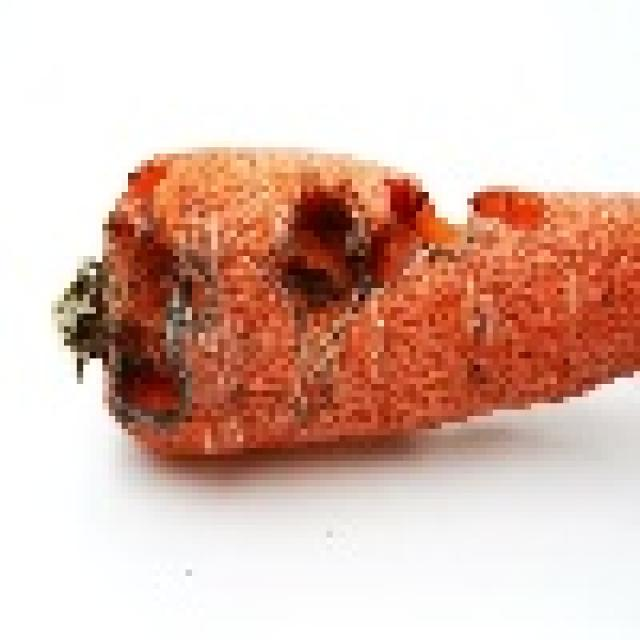Stale_Carrot: (34, 107, 640, 453)
